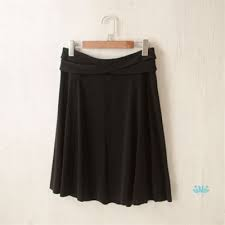S_skirt: (41, 45, 178, 208)
